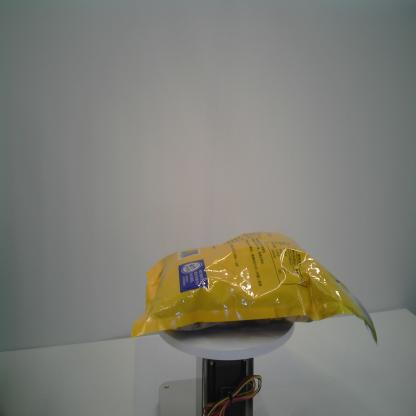Dried Food: (131, 230, 379, 348)
